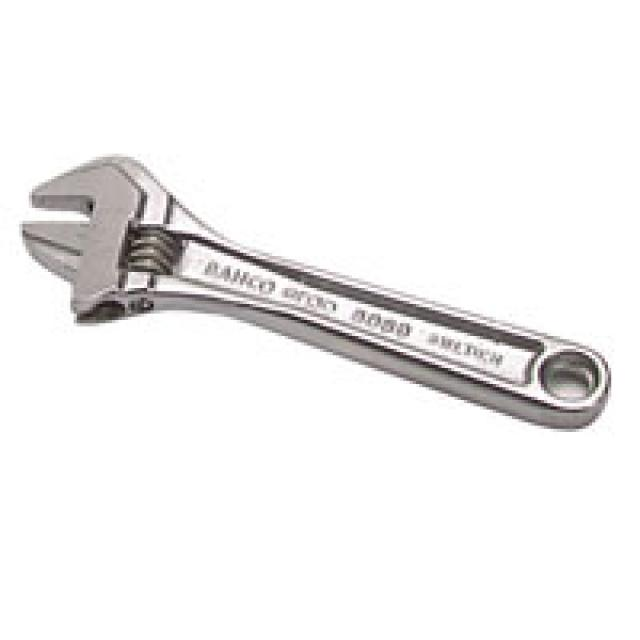wrench: (0, 102, 634, 461)
